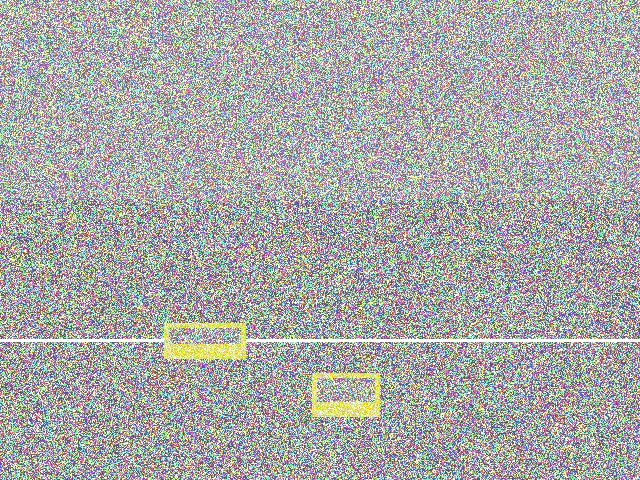bus: (469, 257, 585, 365), (309, 197, 417, 248)
